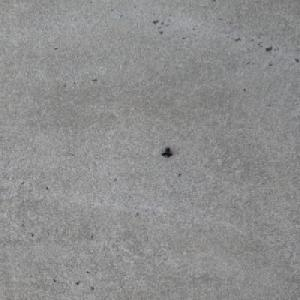BoltWasher: (160, 147, 173, 157)
